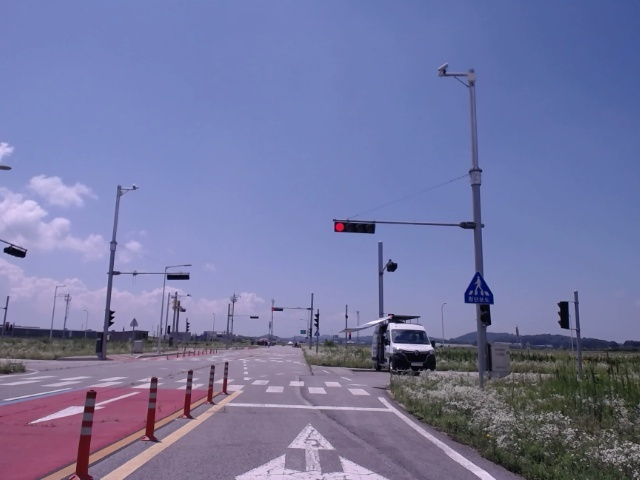red_4: (334, 222, 374, 234)
